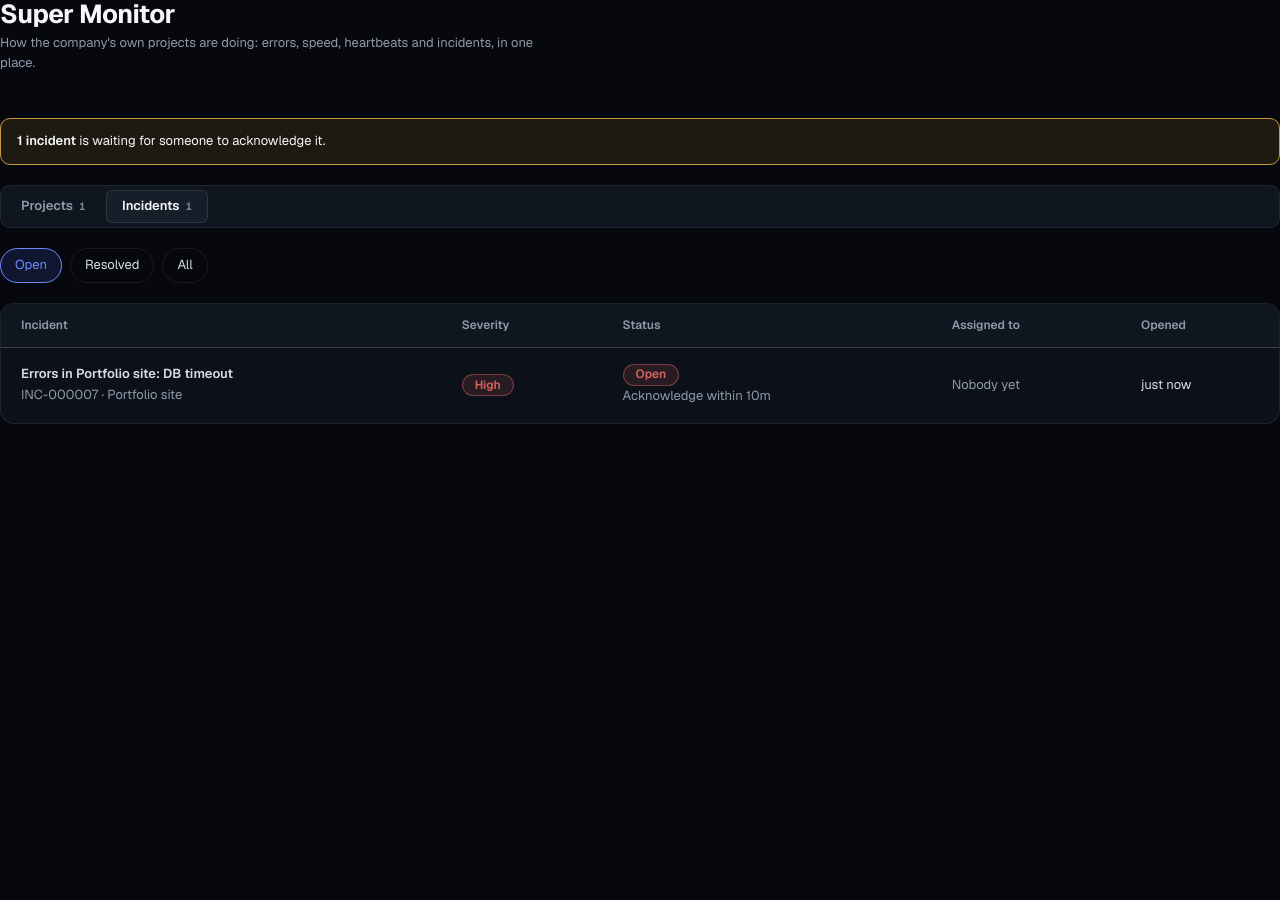
Test case: Super Monitor: an incident › offers only the moves the database will accept
Click the text "Errors in Portfolio site: DB timeout" at (127, 374), box [21, 365, 233, 382]
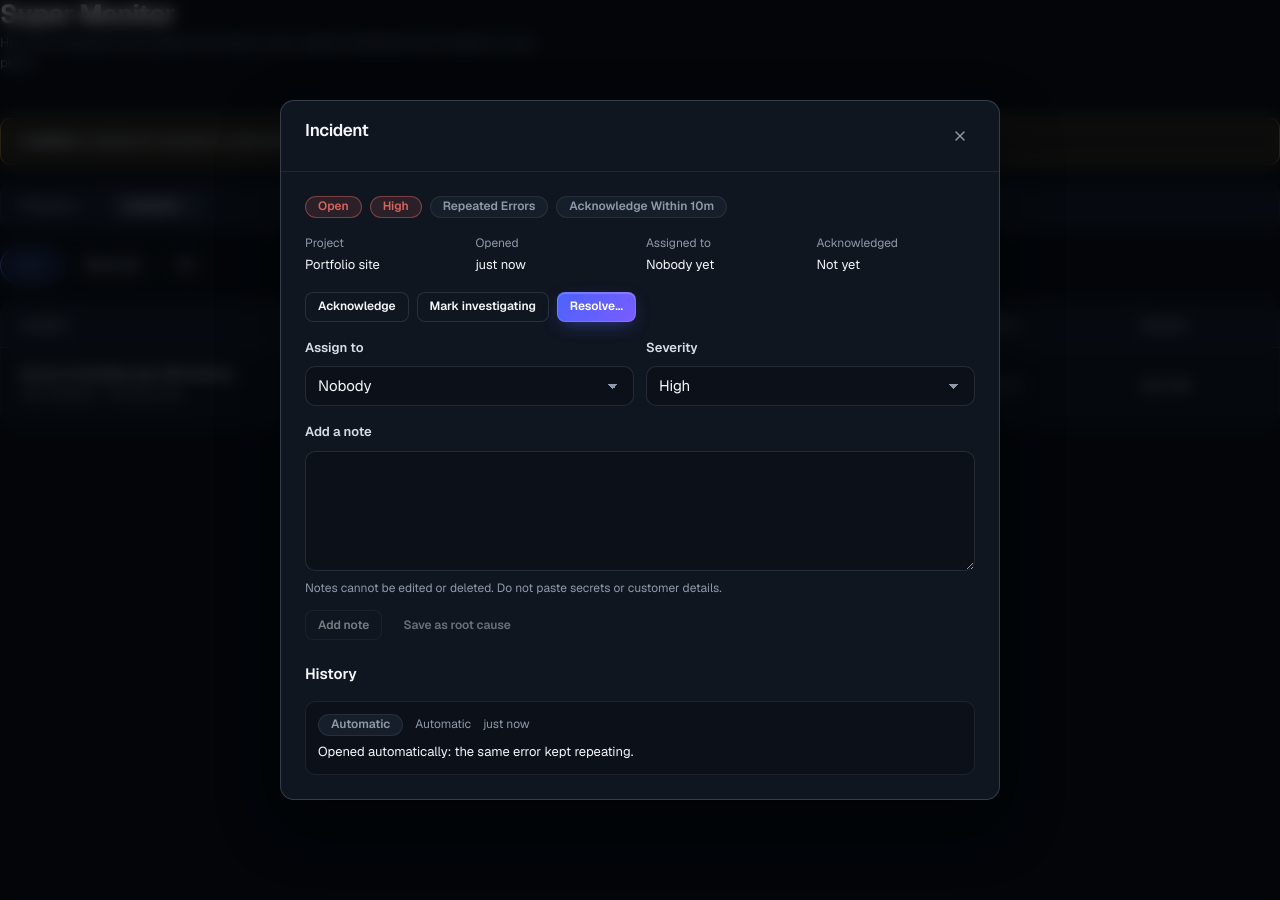
Expected: the buttons read "Acknowledge", "Mark investigating", "Resolve…", in this order, [305, 292, 408, 322]; [416, 292, 549, 322]; [557, 292, 636, 322]
